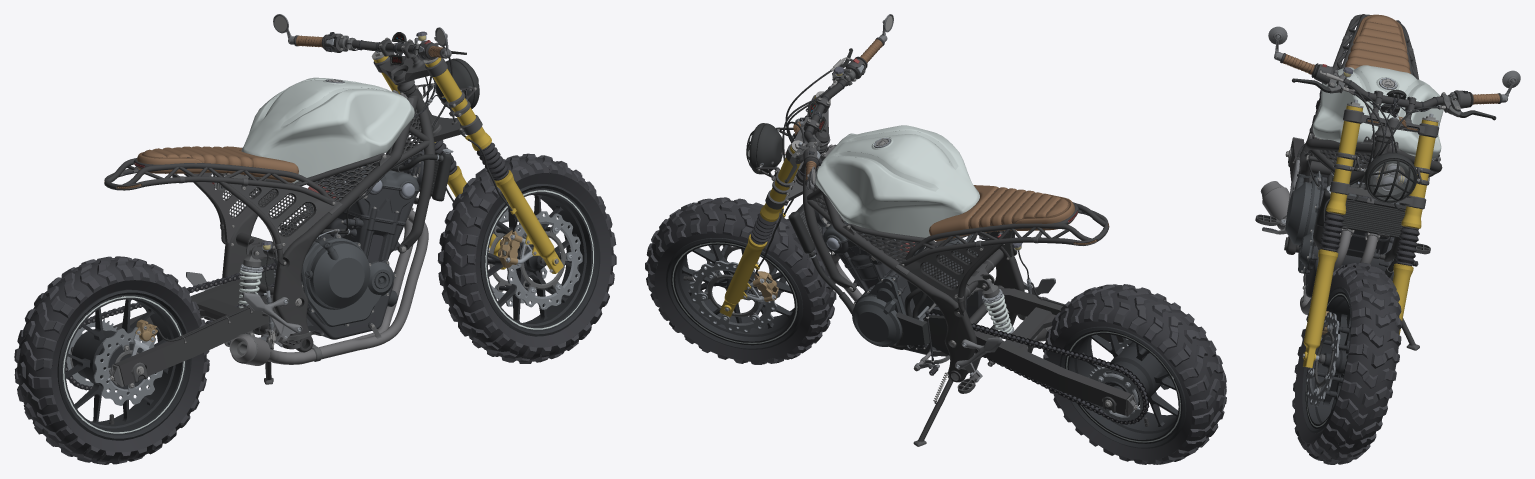
The model's file is adventure_bike.glb.
The picture shows the model from 3 angles, left to right: view 1: azimuth 30°, elevation 25°; view 2: azimuth 150°, elevation 25°; view 3: azimuth 270°, elevation 25°; orthographic projection. The views are drawn at different scales.
Visible parts, largest first — view 1: pCylinder205; view 2: pCylinder205; view 3: pCylinder205.
Boxes of the visible parts, bbox=[...] form: pCylinder205: bbox=[14, 14, 616, 464]; pCylinder205: bbox=[645, 14, 1226, 464]; pCylinder205: bbox=[1255, 14, 1520, 464].
Bounding box in the file's own units: 2.06 × 1.25 × 0.8123.
Materials: 65 (2 with a texture image).
